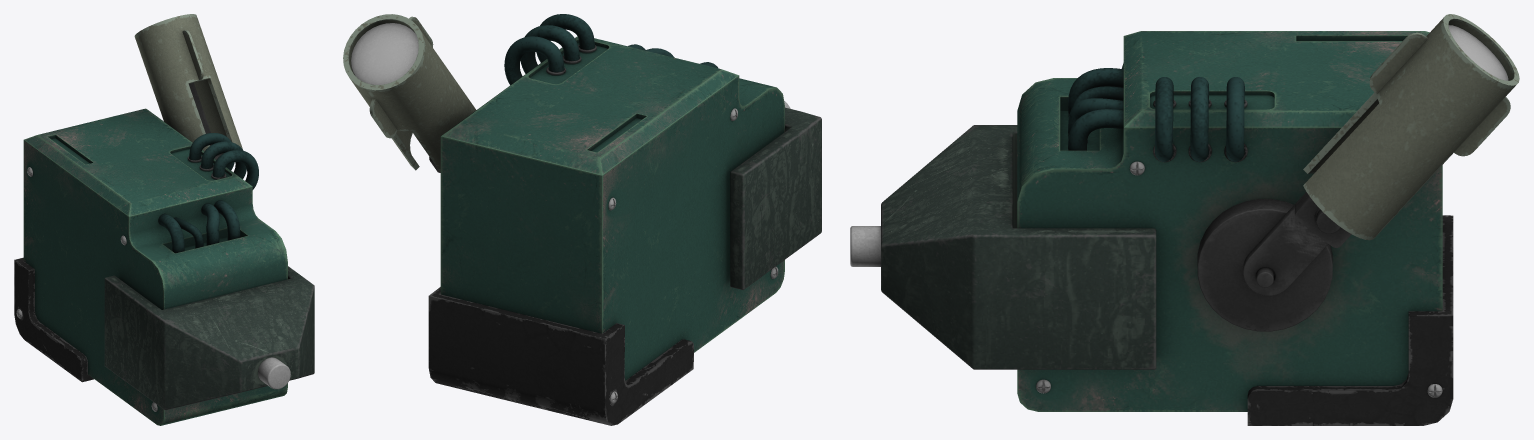
Rendered from engine.fbx.
3 views of the same model, side by side, from view 1: azimuth 30°, elevation 25°; view 2: azimuth 150°, elevation 25°; view 3: azimuth 270°, elevation 25° (orthographic). The views are drawn at different scales.
Parts seen in each view (by area): view 1: engine_body.001, engine_body.002; view 2: engine_body.001, engine_body.002; view 3: engine_body.001, engine_body.002.
Part boxes in pixels (left/top/right/bottom): engine_body.001: left=14, top=82, right=314, bottom=425; engine_body.002: left=134, top=14, right=242, bottom=153; engine_body.001: left=351, top=14, right=821, bottom=425; engine_body.002: left=343, top=14, right=476, bottom=171; engine_body.001: left=850, top=25, right=1508, bottom=425; engine_body.002: left=1303, top=14, right=1519, bottom=240.
Bounding box in the file's own units: 298 × 209 × 154.
